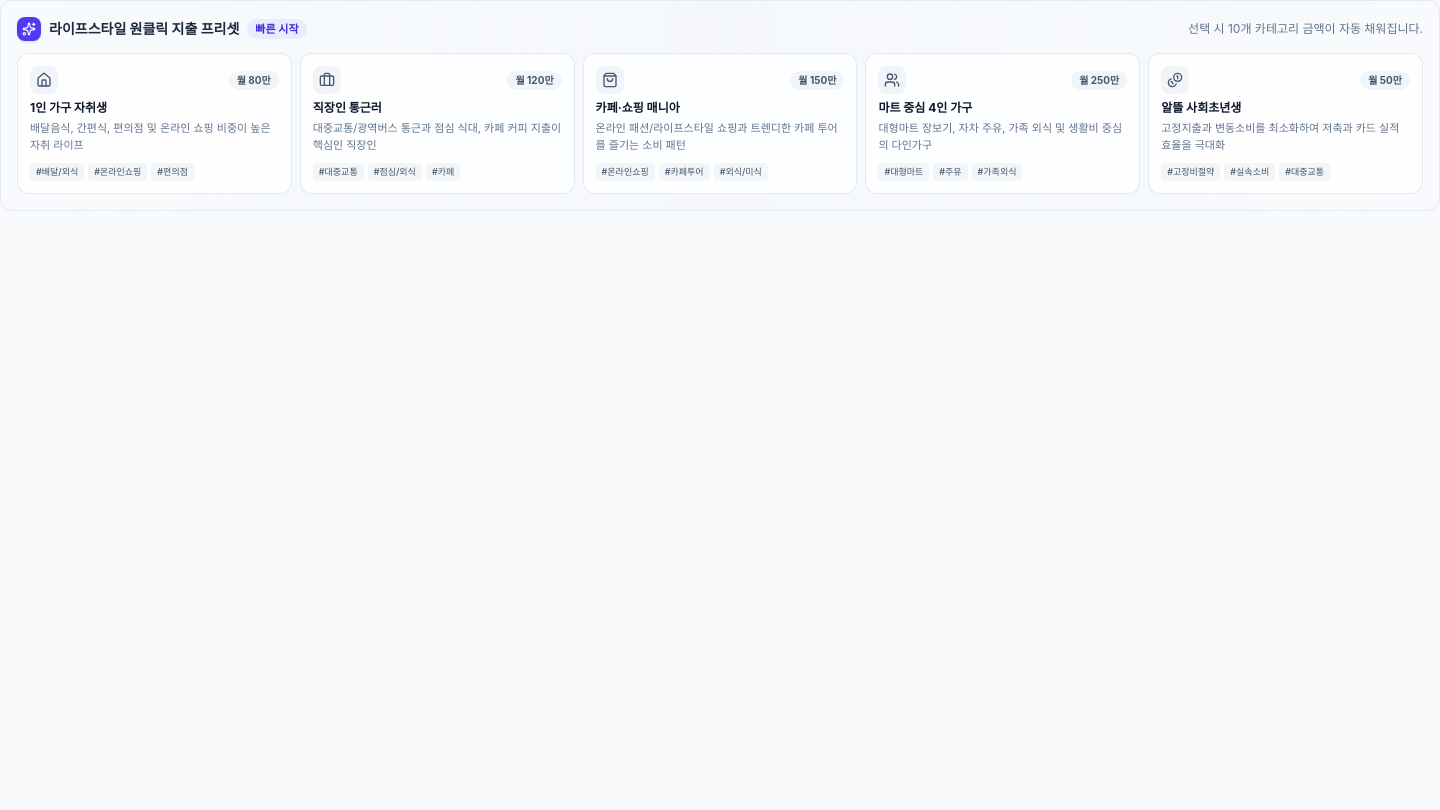
Test case: SpendingPresetSelector › 기존 입력 지출액이 있을 때 다른 프리셋을 클릭하면 덮어쓰기 확인 대화상자가 표시된다
The width and height of the screenshot is (1440, 810).
Click the button with aria-label "직장인 통근러 프리셋 선택" at [437, 123], box 300,53 -> 575,194
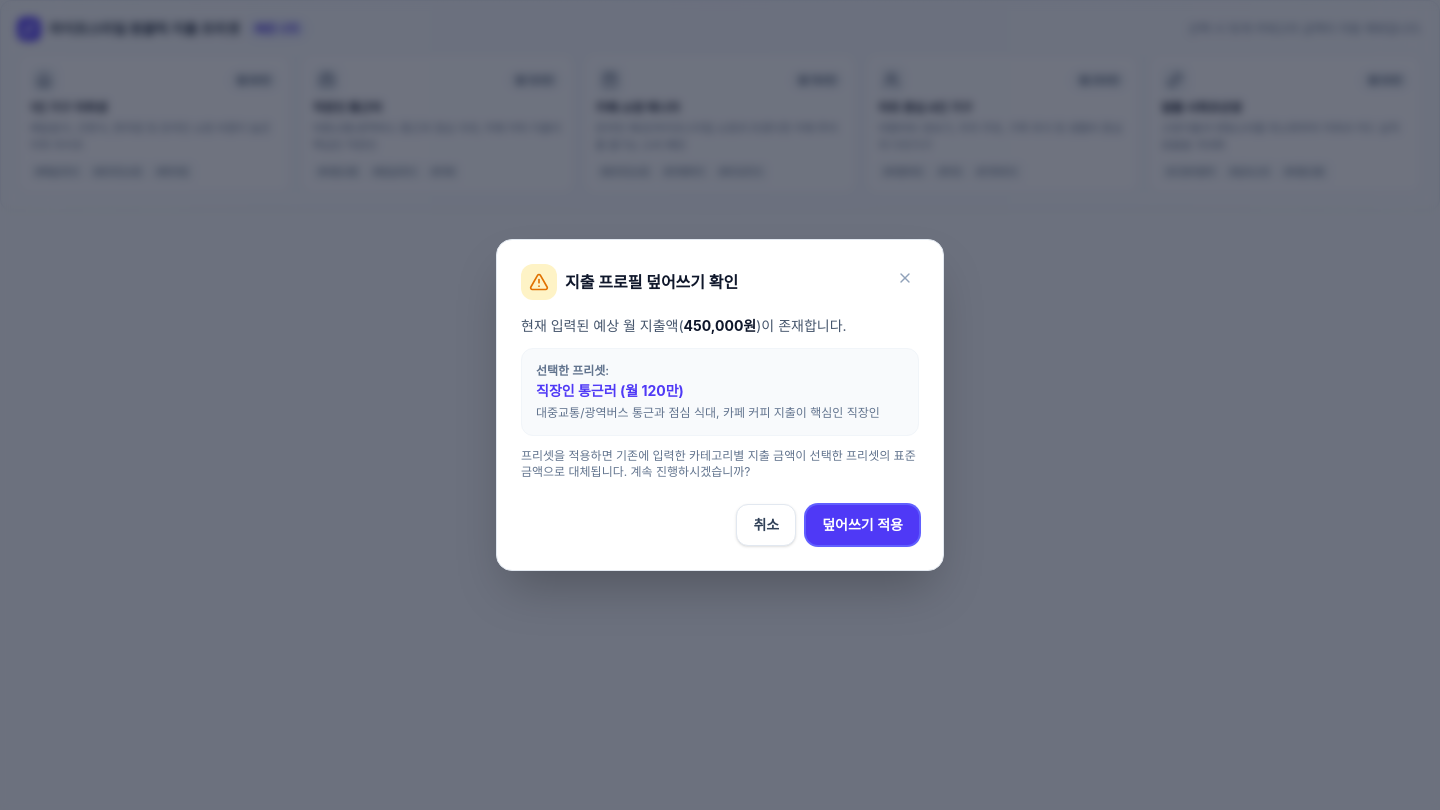
expect the heading "지출 프로필 덮어쓰기 확인" is shown: met, box 565,270 -> 738,294
expect the text "현재 입력된 예상 월 지출액(450,000원)이 존재합니다." is shown: met, box 521,317 -> 847,334
expect the text "선택한 프리셋:" is shown: met, box 536,363 -> 609,378
